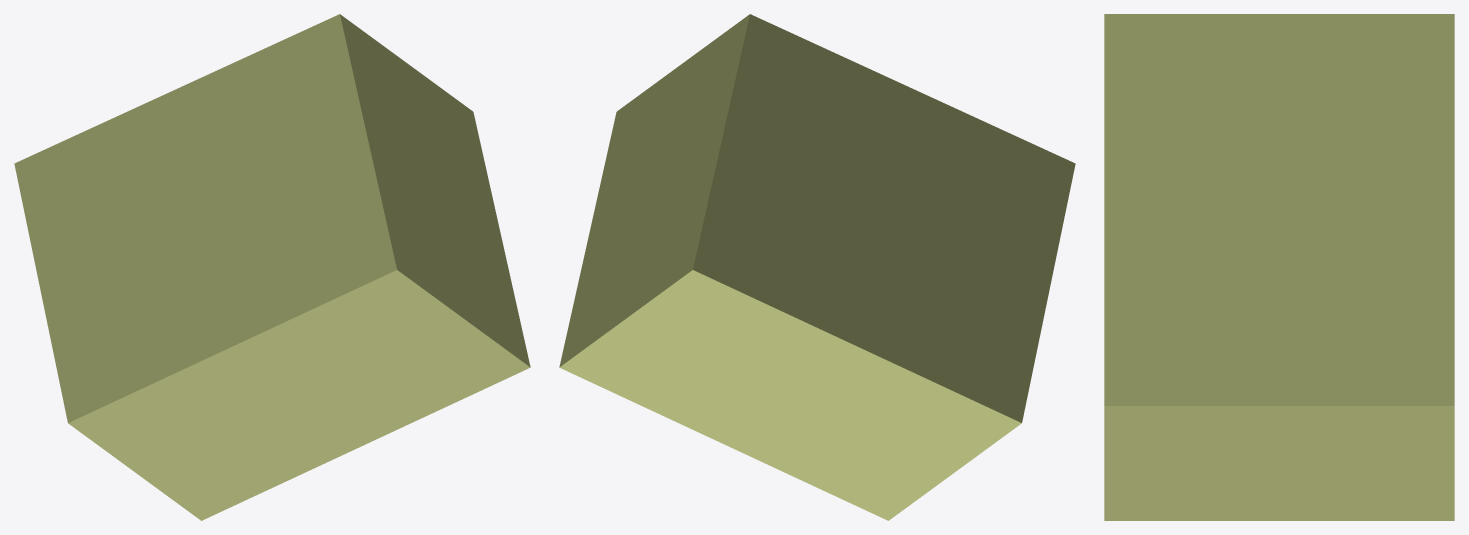
The picture shows the model from 3 angles, left to right: view 1: azimuth 30°, elevation 25°; view 2: azimuth 150°, elevation 25°; view 3: azimuth 270°, elevation 25°; orthographic projection. The views are drawn at different scales.
Visible parts, largest first — view 1: 0_1_0_1_3_3_3_0_2_3; view 2: 0_1_0_1_3_3_3_0_2_3; view 3: 0_1_0_1_3_3_3_0_2_3.
Boxes of the visible parts, bbox=[...] form: 0_1_0_1_3_3_3_0_2_3: bbox=[14, 14, 530, 520]; 0_1_0_1_3_3_3_0_2_3: bbox=[559, 14, 1075, 520]; 0_1_0_1_3_3_3_0_2_3: bbox=[1104, 14, 1454, 520].
Bounding box in the file's own units: 9.93 × 8.5 × 6.
